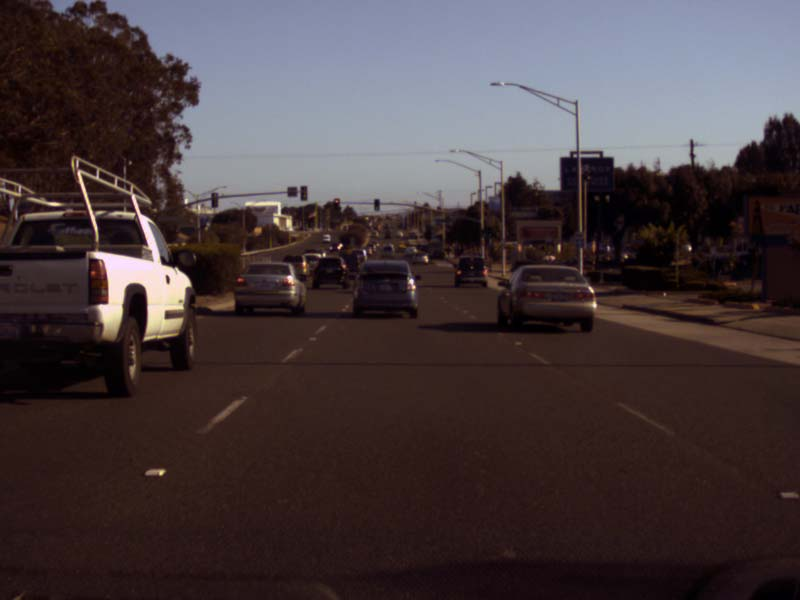Green: (373, 198, 379, 211)
Red: (333, 197, 340, 210)
